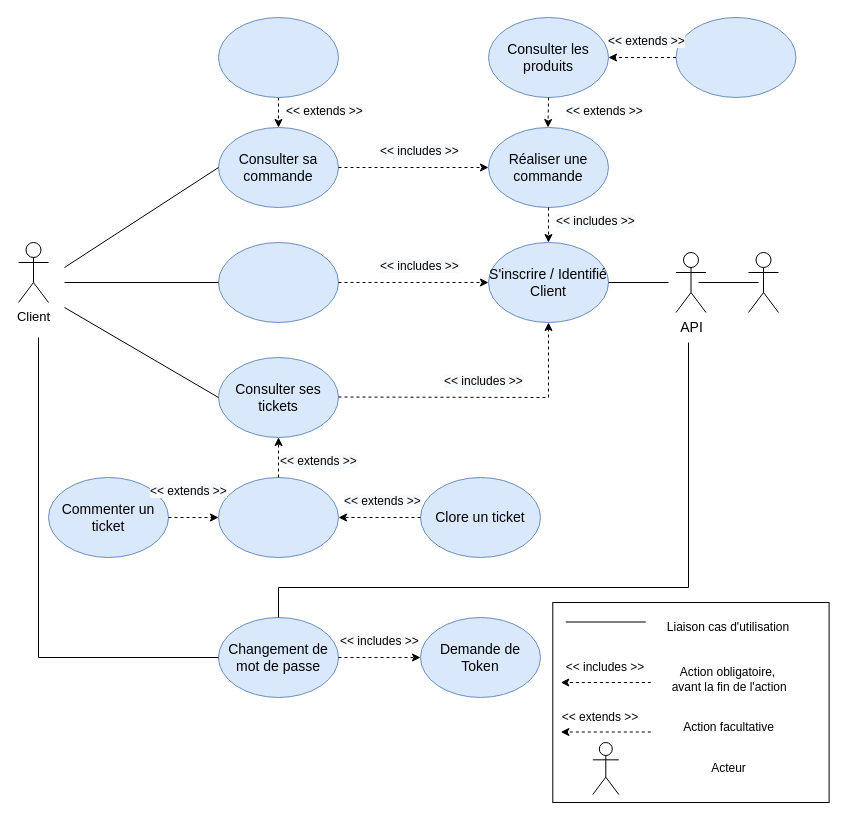
Image size: 847x820. Some labels were removed from this diagram. Each missing label, with the centre of its shape:
Ajouter un ticket: (278,517)
Annuler sa commande: (278,57)
Consulter les boutiques: (735,57)
Modifier son profil: (278,282)
Stock BDD: (763,282)
